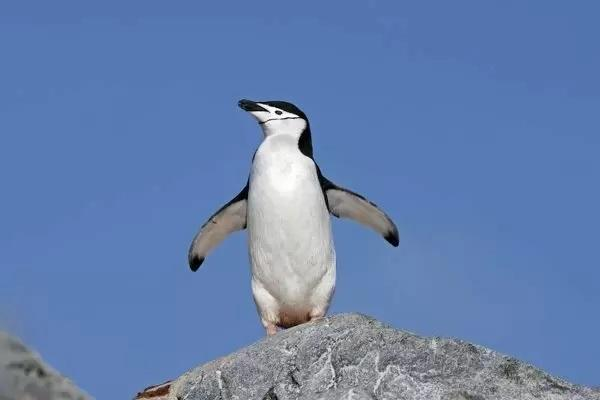chinstrap: (186, 80, 405, 352)
